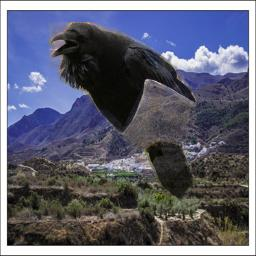Crow: (49, 22, 197, 202)
